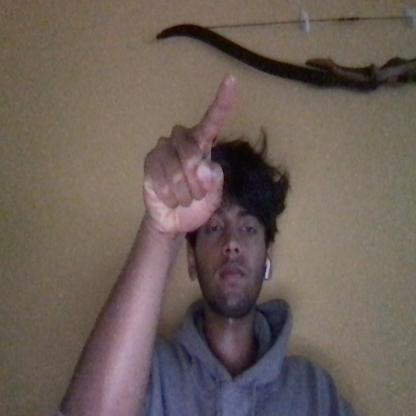finger_point: (201, 53, 251, 98)
